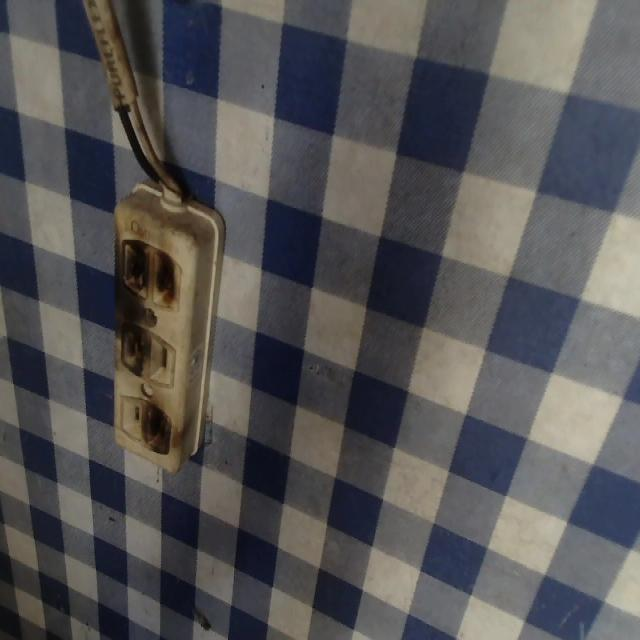-: (119, 233, 181, 311), (113, 316, 152, 375), (142, 404, 172, 457)
